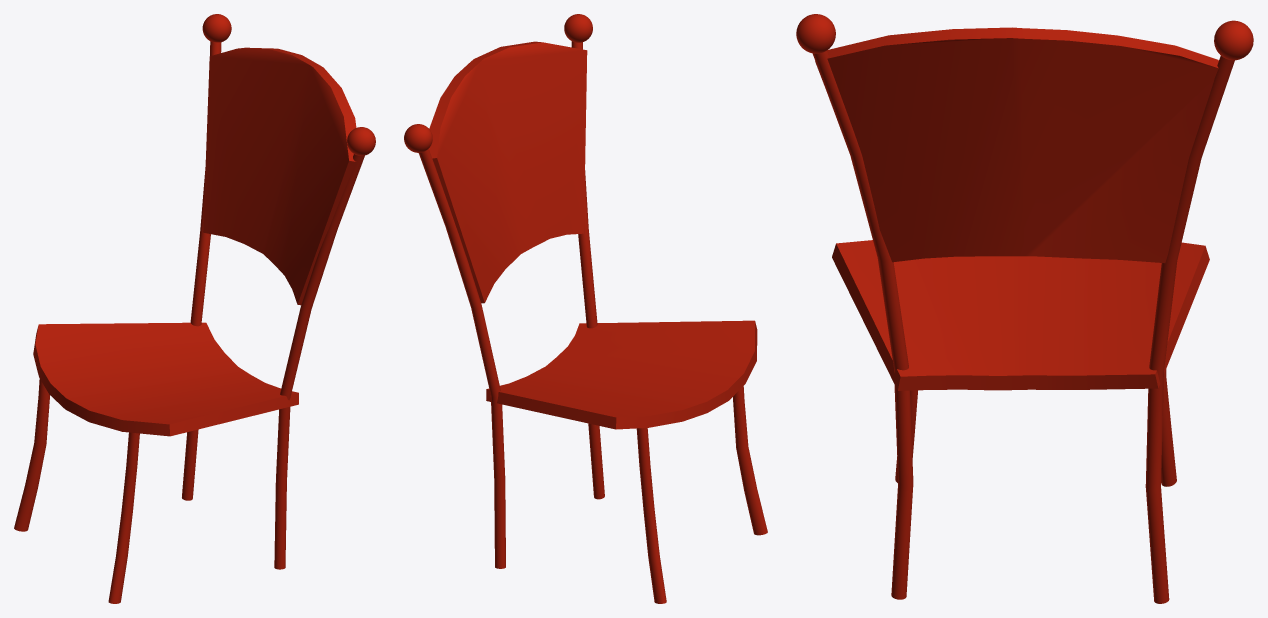
The model's file is sillaFrontal.obj.
3 views of the same model, side by side, from view 1: azimuth 30°, elevation 25°; view 2: azimuth 150°, elevation 25°; view 3: azimuth 270°, elevation 25° (orthographic). The views are drawn at different scales.
Visible parts, largest first — view 1: silla2:polySurface252 group58; view 2: silla2:polySurface252 group58; view 3: silla2:polySurface252 group58.
Boxes of the visible parts, left/top/right/bottom form: silla2:polySurface252 group58: left=14, top=14, right=375, bottom=603; silla2:polySurface252 group58: left=404, top=14, right=767, bottom=603; silla2:polySurface252 group58: left=796, top=14, right=1253, bottom=603.
Bounding box in the file's own units: 0.5869 × 0.9897 × 0.6605.
Materials: 1 (1 with a texture image).
